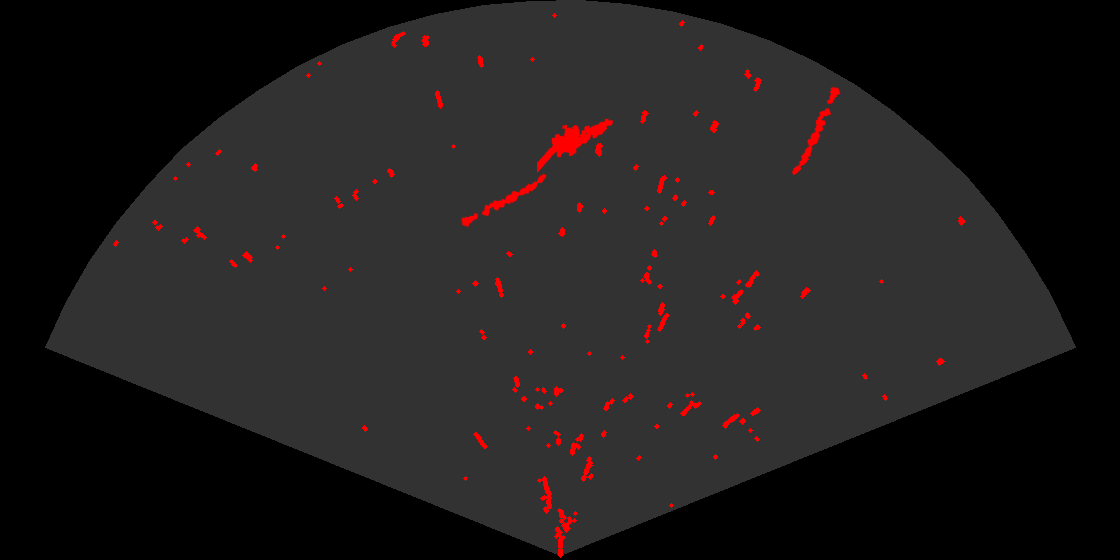chain: (459, 172, 548, 228), (790, 85, 842, 177)
frogman: (537, 117, 615, 174)
